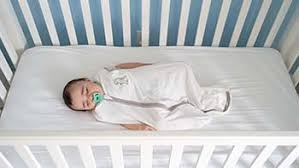baby: (63, 62, 230, 129)
crib: (0, 0, 298, 124)
